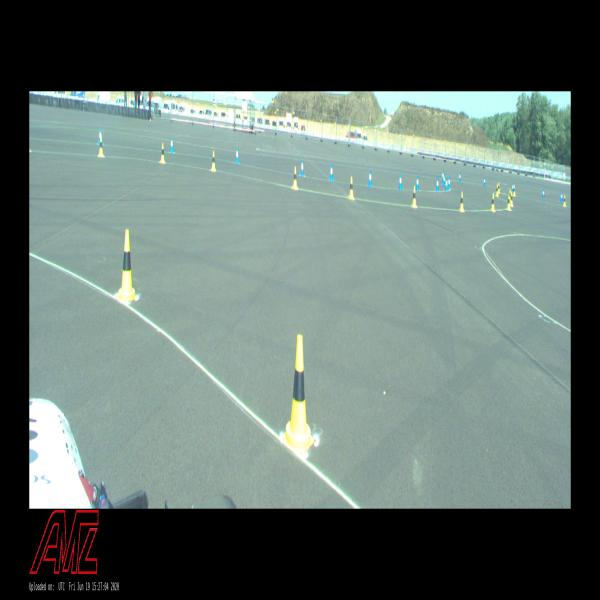blue_cone: (169, 136, 174, 153), (98, 128, 103, 145), (234, 146, 238, 164), (330, 163, 334, 181), (368, 169, 372, 186), (299, 159, 303, 176), (398, 174, 402, 189), (436, 177, 439, 191), (445, 177, 448, 190), (443, 174, 446, 185), (416, 175, 418, 190), (560, 192, 563, 202), (448, 175, 450, 189), (542, 188, 544, 199), (442, 171, 444, 181), (459, 172, 461, 181), (484, 177, 486, 186), (512, 182, 513, 192)
yellow_cone: (285, 335, 312, 450), (118, 231, 136, 300), (349, 177, 354, 198), (412, 186, 417, 207), (160, 142, 165, 163), (459, 191, 464, 211), (211, 151, 216, 170), (98, 140, 104, 155), (293, 167, 297, 188), (491, 193, 495, 211), (507, 195, 511, 209), (563, 195, 566, 207), (511, 192, 513, 206), (509, 189, 511, 203), (496, 184, 498, 196), (513, 186, 515, 196), (498, 183, 500, 193)
